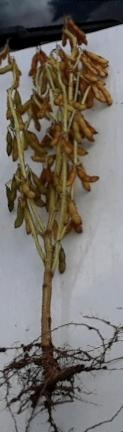soja: (77, 162, 96, 197), (96, 82, 118, 109), (24, 134, 49, 157), (74, 167, 102, 186), (75, 115, 97, 138), (66, 140, 93, 158), (82, 117, 105, 137), (84, 48, 111, 65), (27, 54, 43, 79), (32, 175, 50, 197), (13, 205, 26, 234), (70, 18, 87, 39), (71, 200, 85, 225), (59, 245, 70, 276), (22, 179, 38, 200), (39, 70, 51, 98), (4, 186, 16, 212), (50, 128, 63, 150), (30, 113, 45, 132), (92, 60, 107, 79), (1, 61, 19, 76), (54, 172, 64, 198), (50, 73, 66, 89), (73, 220, 88, 237), (28, 210, 37, 237), (16, 93, 27, 115), (46, 58, 61, 73), (7, 80, 23, 94), (10, 173, 18, 201), (7, 131, 15, 158), (61, 142, 75, 157), (86, 88, 96, 109), (5, 96, 13, 122), (59, 29, 68, 51), (37, 105, 52, 118), (14, 136, 21, 162), (84, 73, 99, 85), (33, 155, 57, 162), (73, 101, 89, 111), (17, 117, 27, 133), (52, 224, 61, 241), (34, 199, 47, 209), (77, 35, 90, 45), (55, 94, 64, 106)
